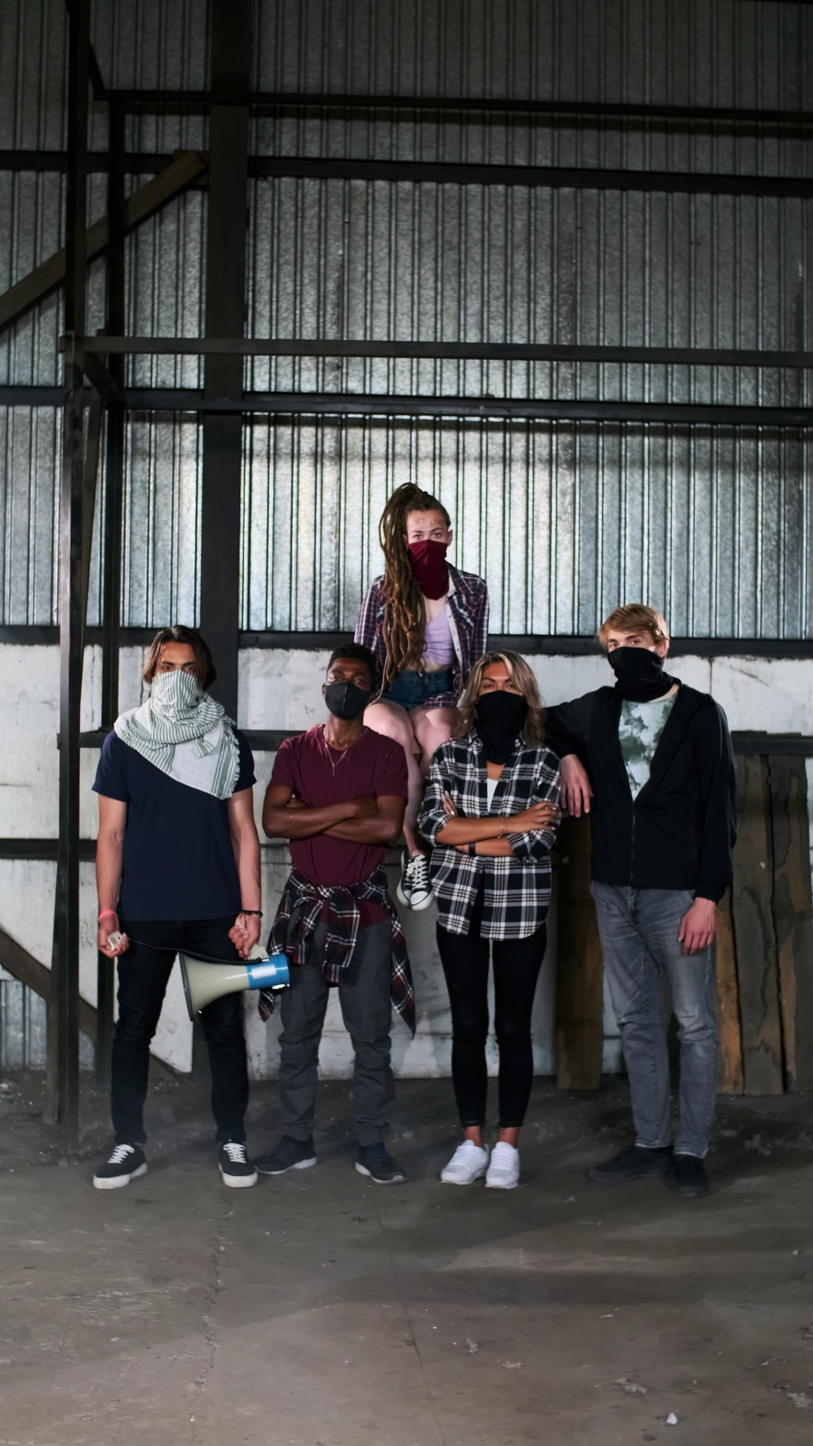mask: (475, 689, 527, 764), (607, 647, 673, 703), (147, 669, 207, 725), (406, 539, 450, 599), (324, 681, 373, 722)
person: (539, 603, 738, 1199), (92, 624, 265, 1190), (251, 645, 418, 1185), (419, 649, 565, 1191), (353, 483, 490, 914)
